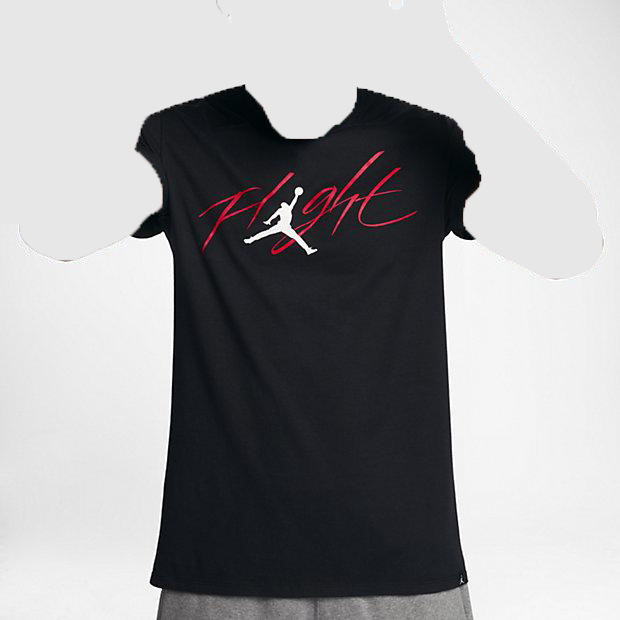teeshirt: (123, 75, 496, 601)
